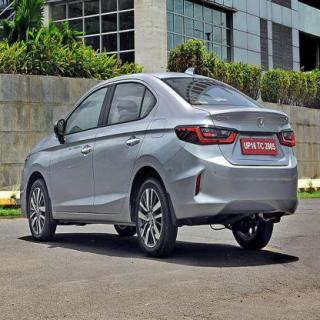Normal_vehicle: (21, 68, 297, 257)
